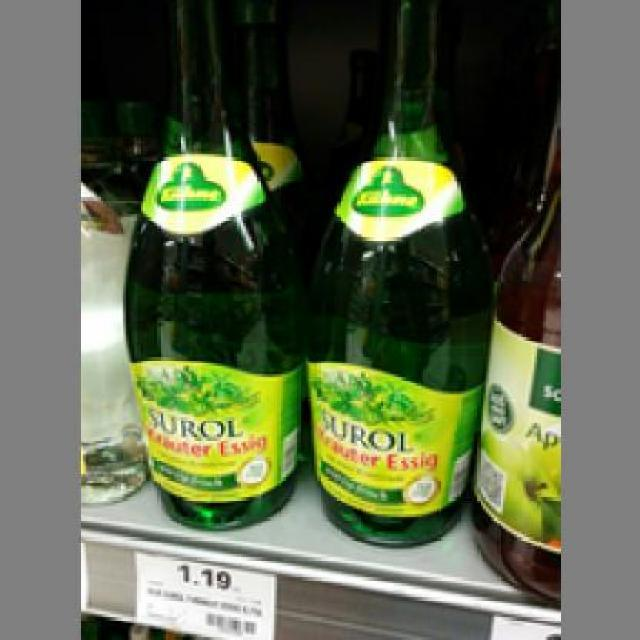Vinegar: (120, 0, 306, 529), (312, 2, 488, 548)
